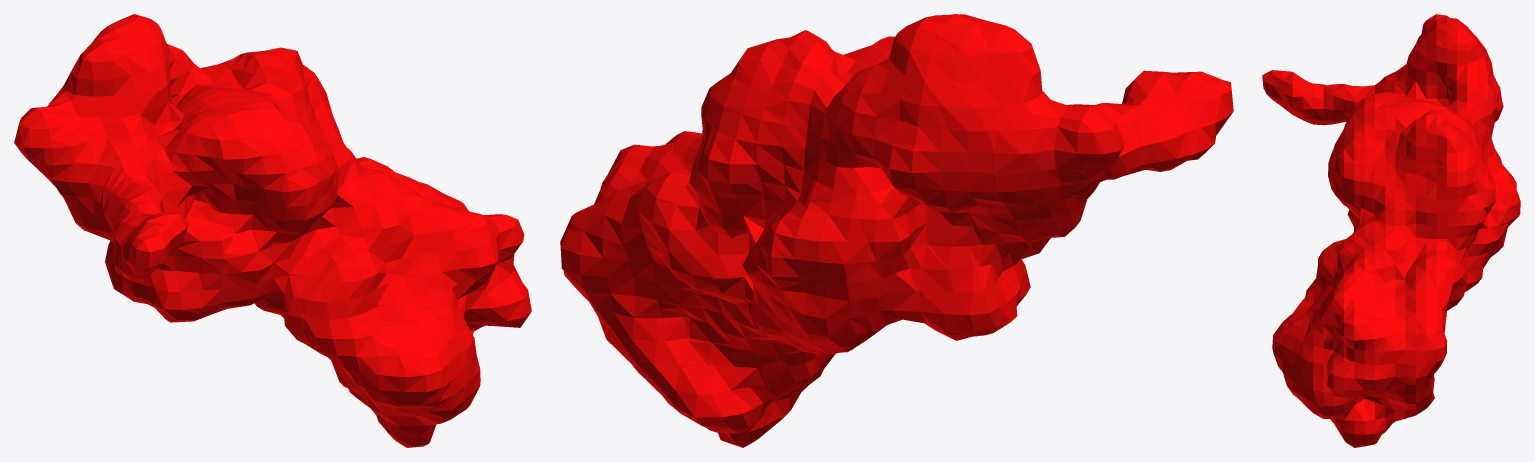
The model's file is acrD_coarse.dae.
The picture shows the model from 3 angles, left to right: view 1: azimuth 30°, elevation 25°; view 2: azimuth 150°, elevation 25°; view 3: azimuth 270°, elevation 25°; orthographic projection. The views are drawn at different scales.
Parts seen in each view (by area): view 1: acrD; view 2: acrD; view 3: acrD.
Boxes of the visible parts, <box> form: acrD: <box>14,14,531,447</box>; acrD: <box>560,14,1233,447</box>; acrD: <box>1262,14,1520,447</box>.
Size of the model in its own units: 124 by 112 by 77.76.
